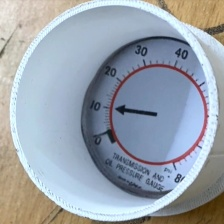gauge: (80, 36, 208, 200)
